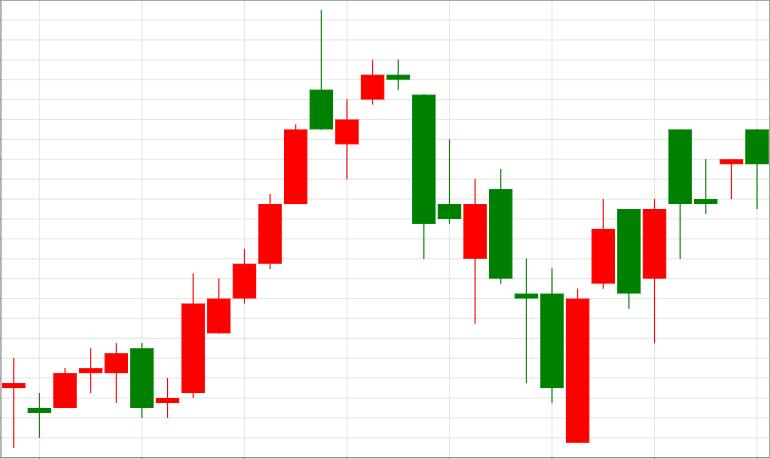hanging_man_fall: (566, 129, 769, 443)
shooting_star_fall: (156, 11, 333, 419)
